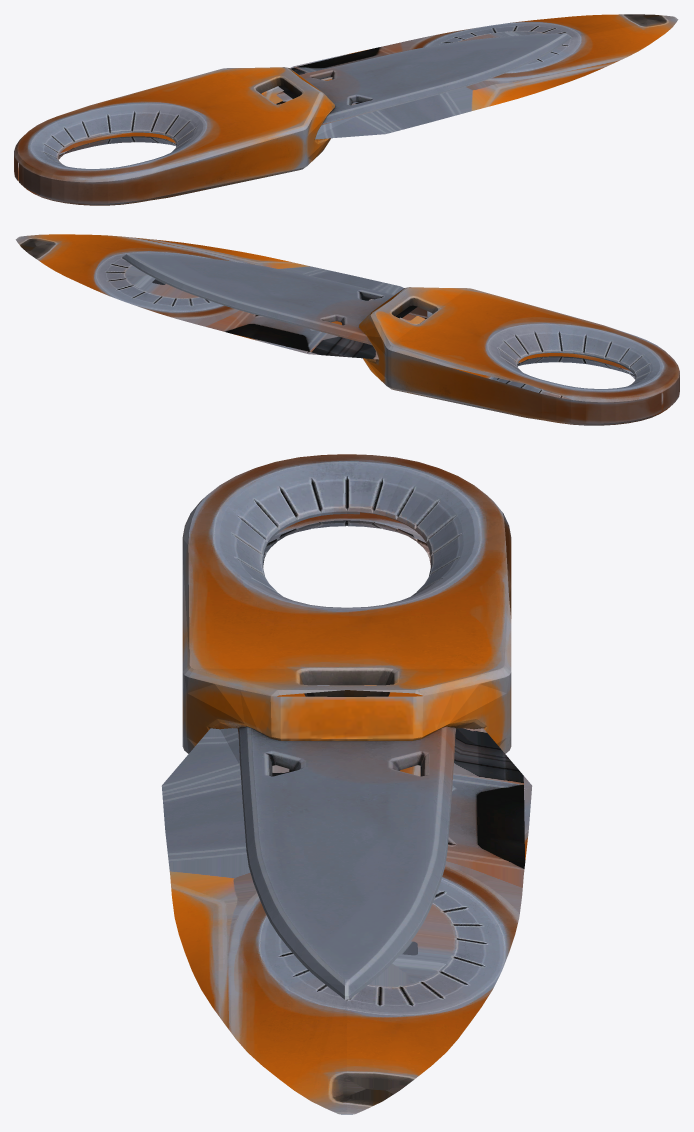
The model's file is KunaiProjectile.fbx.
The picture shows the model from 3 angles, top to bottom: view 1: azimuth 30°, elevation 25°; view 2: azimuth 150°, elevation 25°; view 3: azimuth 270°, elevation 25°; orthographic projection. The views are drawn at different scales.
Parts seen in each view (by area): view 1: SM_Kunai_Projectile.mo; view 2: SM_Kunai_Projectile.mo; view 3: SM_Kunai_Projectile.mo.
Boxes of the visible parts, left/top/right/bottom form: SM_Kunai_Projectile.mo: left=14, top=14, right=678, bottom=205; SM_Kunai_Projectile.mo: left=15, top=234, right=679, bottom=425; SM_Kunai_Projectile.mo: left=161, top=454, right=532, bottom=1114.
Bounding box in the file's own units: 46.92 × 4.04 × 11.47.
